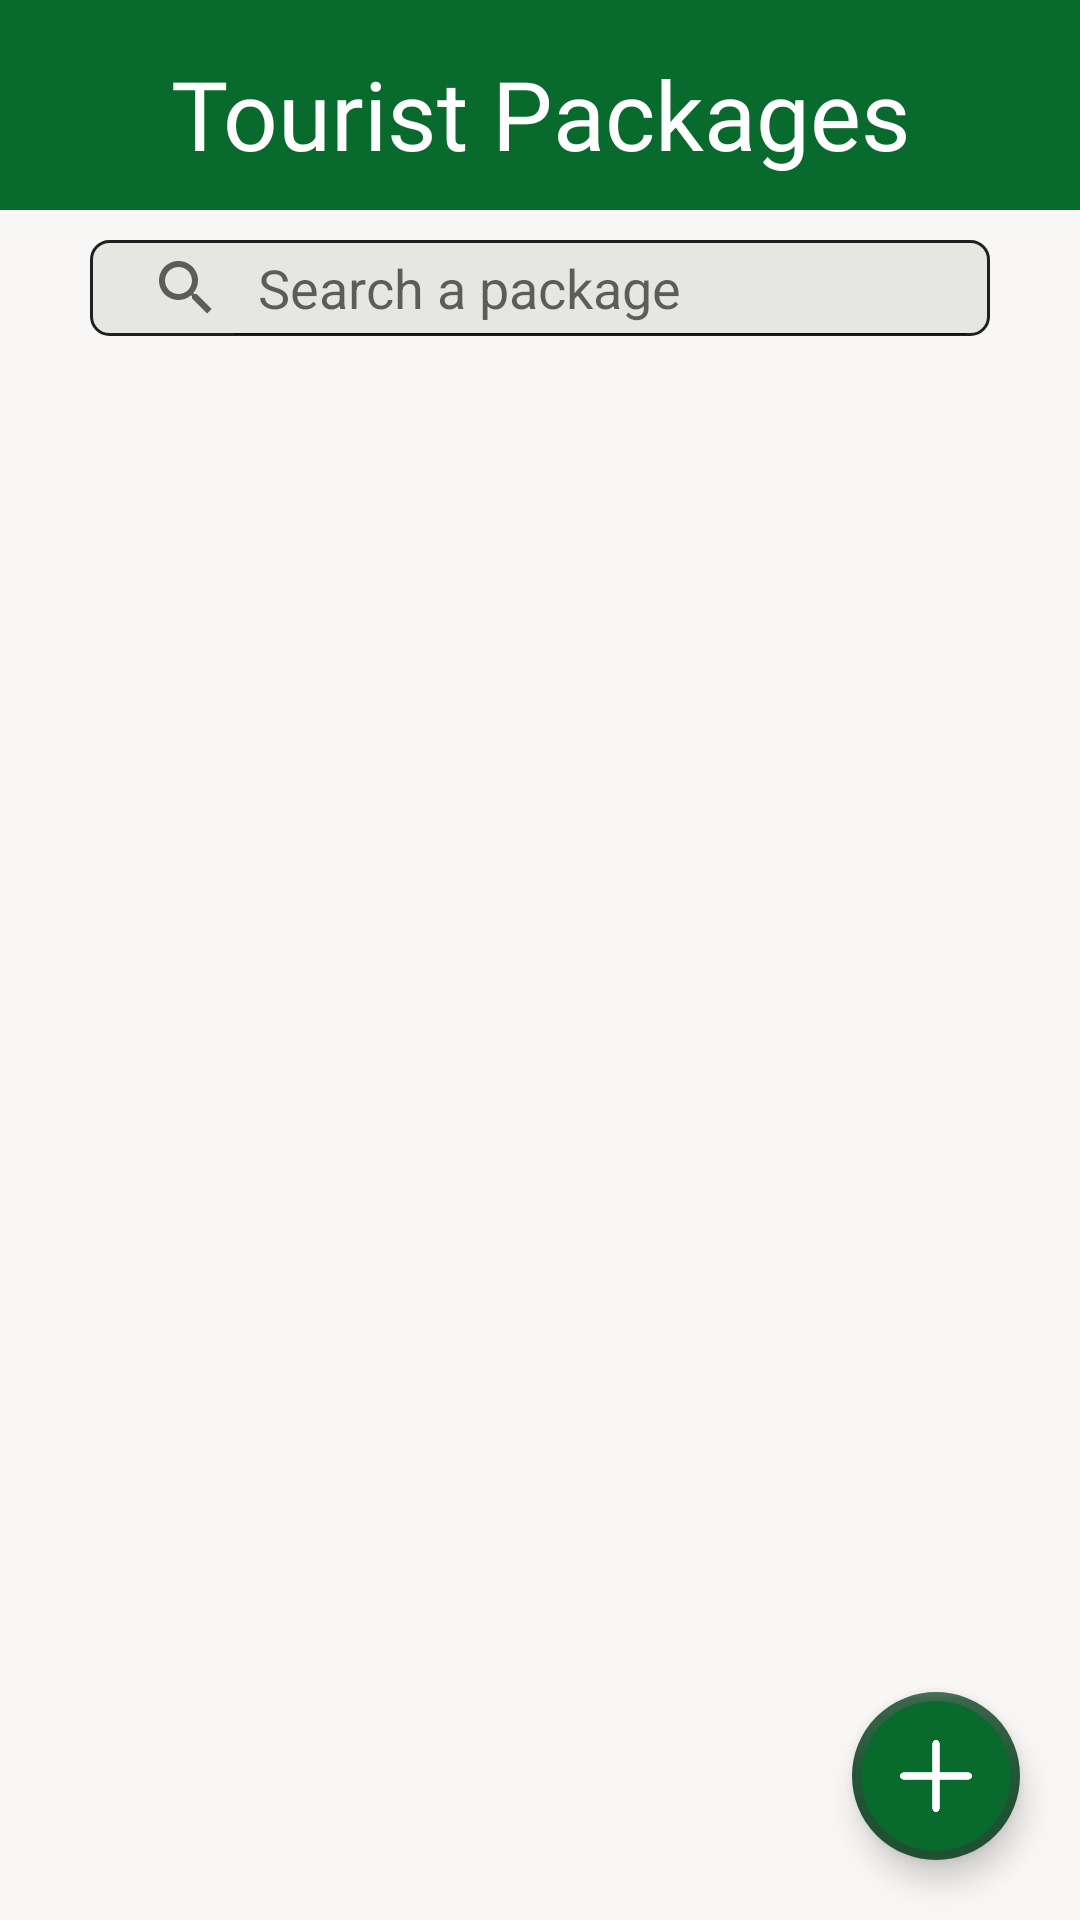

Named icons in this screenshot (1080w x 1920h) and their centers, (x,y):
plus: (936,1776)
